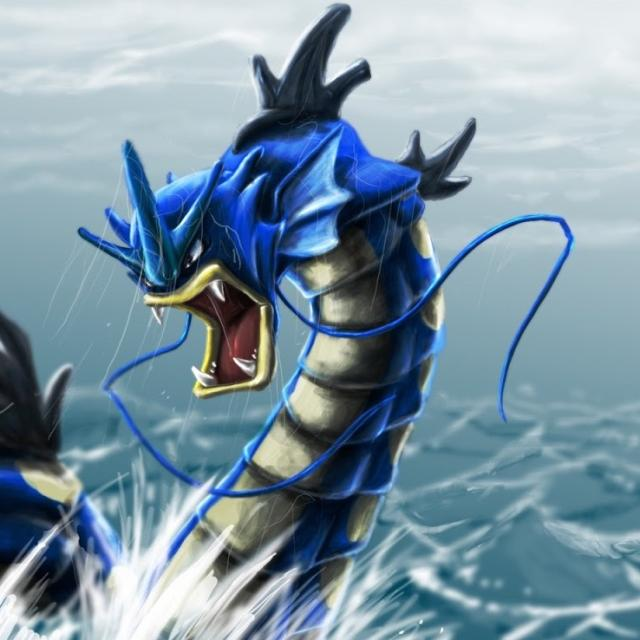Gyarados: (103, 127, 452, 635)
